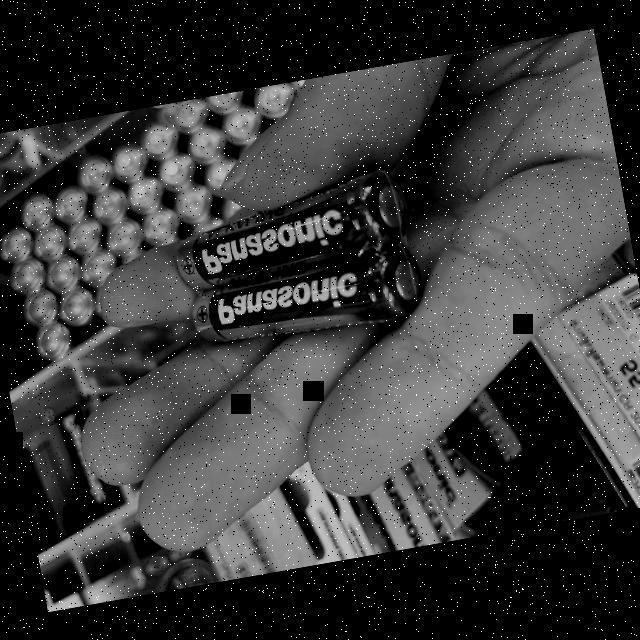battery: (154, 152, 433, 294), (170, 238, 440, 370)
